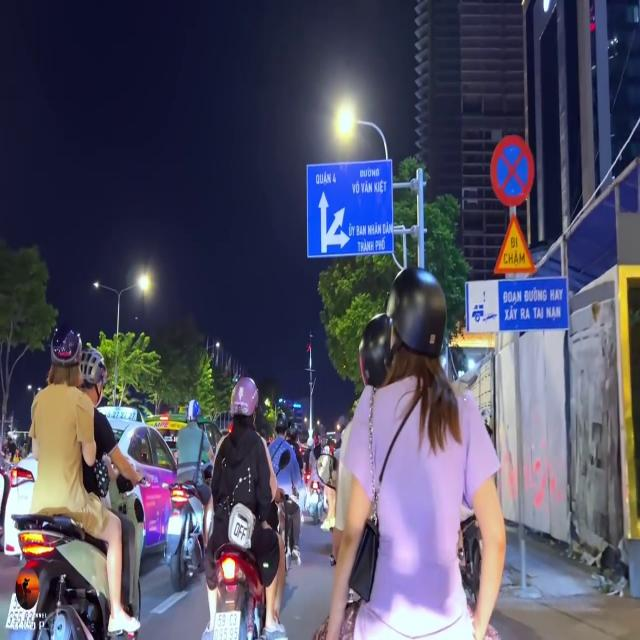bien_trang: (210, 612, 240, 640)
